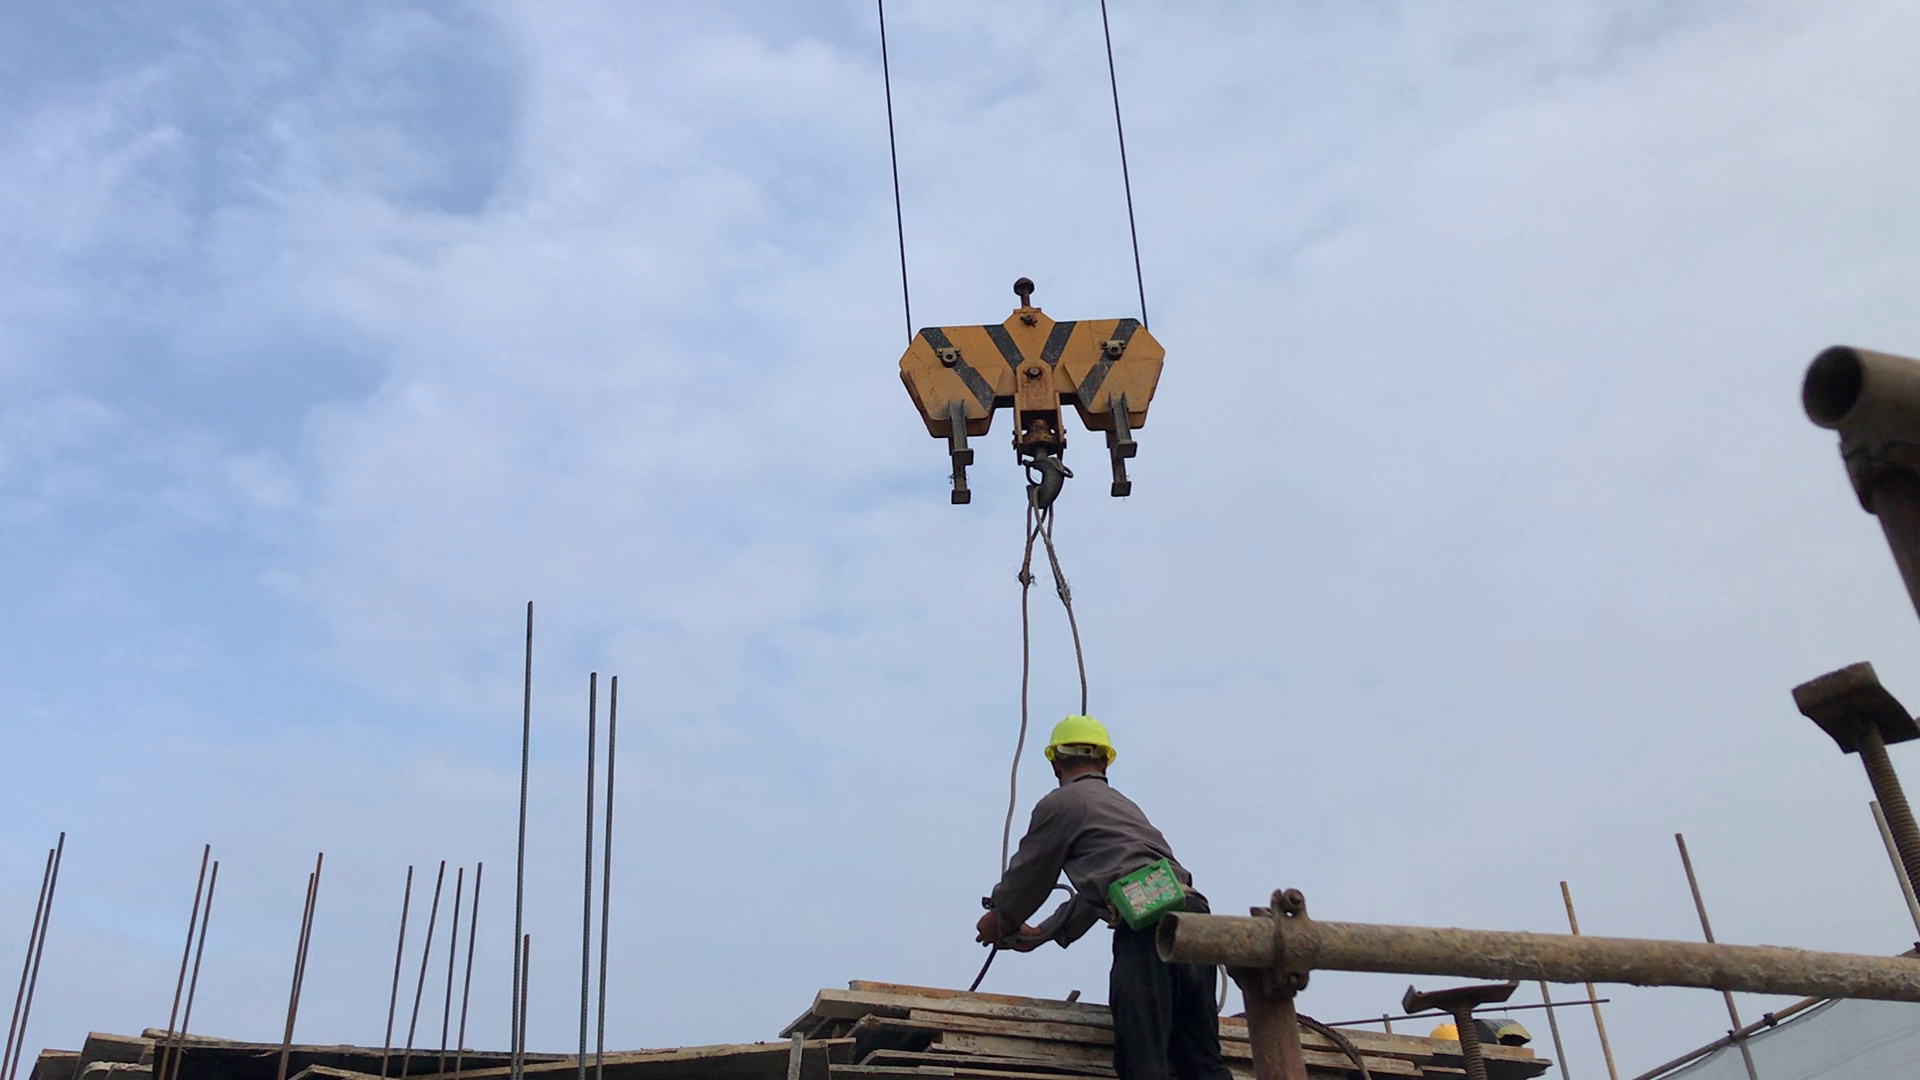board: (820, 961, 1485, 1080)
helmet: (1036, 711, 1119, 766)
hook: (887, 260, 1176, 509)
person: (962, 700, 1255, 1080)
